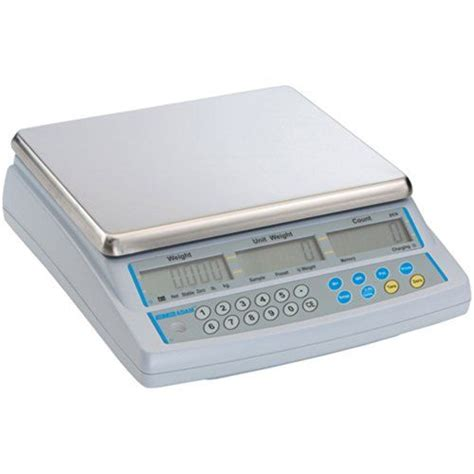Industrial Scale: (4, 85, 474, 388)
